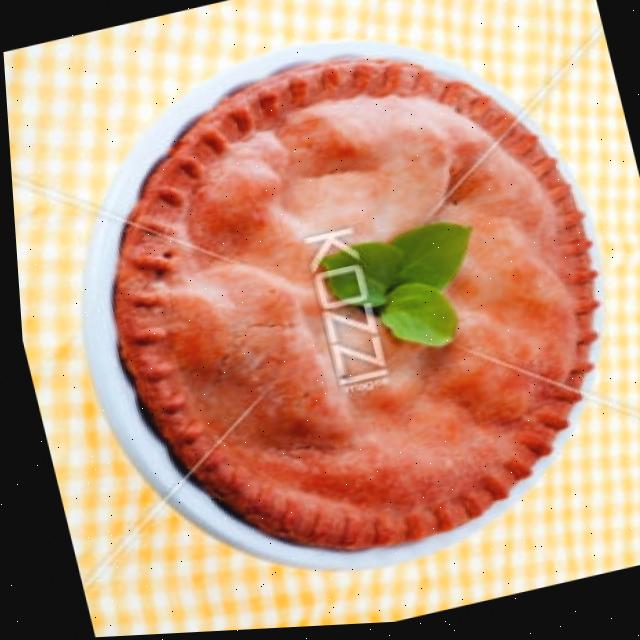炸货点心: (12, 0, 640, 638)
蛋糕甜品: (12, 0, 640, 638)
